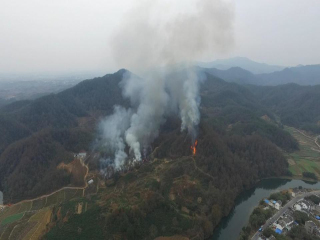smoke: (94, 4, 234, 177)
